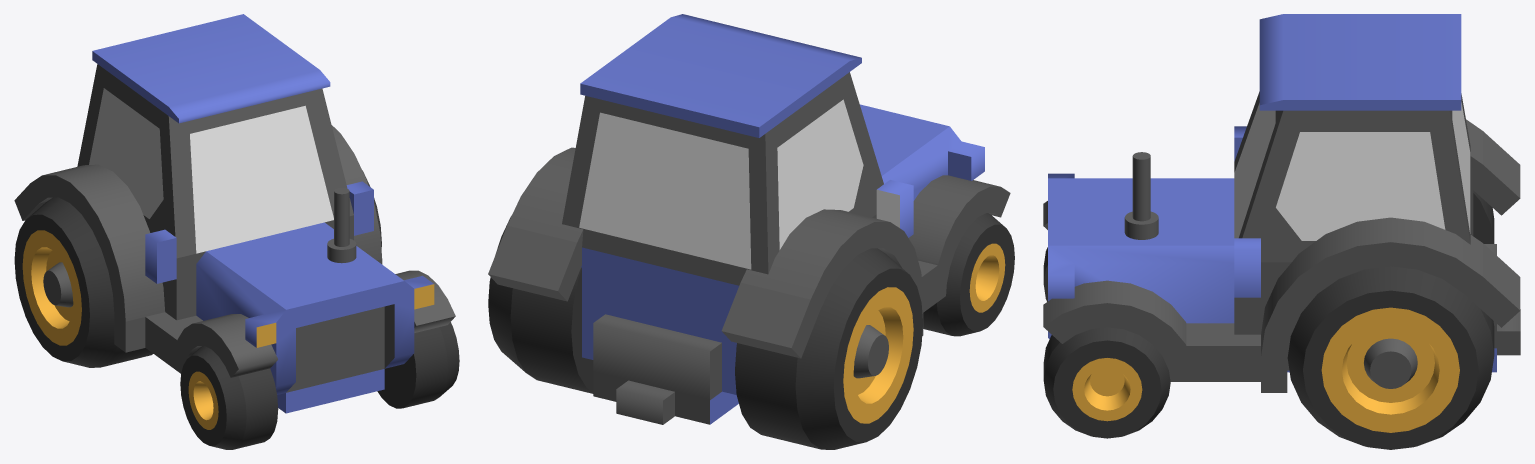
Rendered from tractor.fbx.
3 renders of one model, left to right at view 1: azimuth 30°, elevation 25°; view 2: azimuth 150°, elevation 25°; view 3: azimuth 270°, elevation 25°, orthographic. The views are drawn at different scales.
Parts seen in each view (by area): view 1: body, skirts, wheel_backRight, wheel_frontRight, wheel_frontLeft; view 2: body, skirts, wheel_backRight, wheel_backLeft, wheel_frontRight; view 3: body, skirts, wheel_backLeft, wheel_frontLeft, wheel_backRight.
Boxes of the visible parts, <box> form: body: <box>77,14,434,413</box>; skirts: <box>14,125,455,377</box>; wheel_backRight: <box>14,197,153,367</box>; wheel_frontRight: <box>180,346,278,449</box>; wheel_frontLeft: <box>377,322,459,408</box>; body: <box>562,14,984,424</box>; skirts: <box>488,147,1010,358</box>; wheel_backRight: <box>735,248,922,449</box>; wheel_backLeft: <box>488,215,593,393</box>; wheel_frontRight: <box>923,213,1014,336</box>; body: <box>1048,14,1520,372</box>; skirts: <box>1043,119,1520,392</box>; wheel_backLeft: <box>1287,266,1494,449</box>; wheel_frontLeft: <box>1043,327,1170,438</box>; wheel_backRight: <box>1473,190,1494,243</box>.
Bounding box in the file's own units: 16.61 × 15.12 × 20.18.
